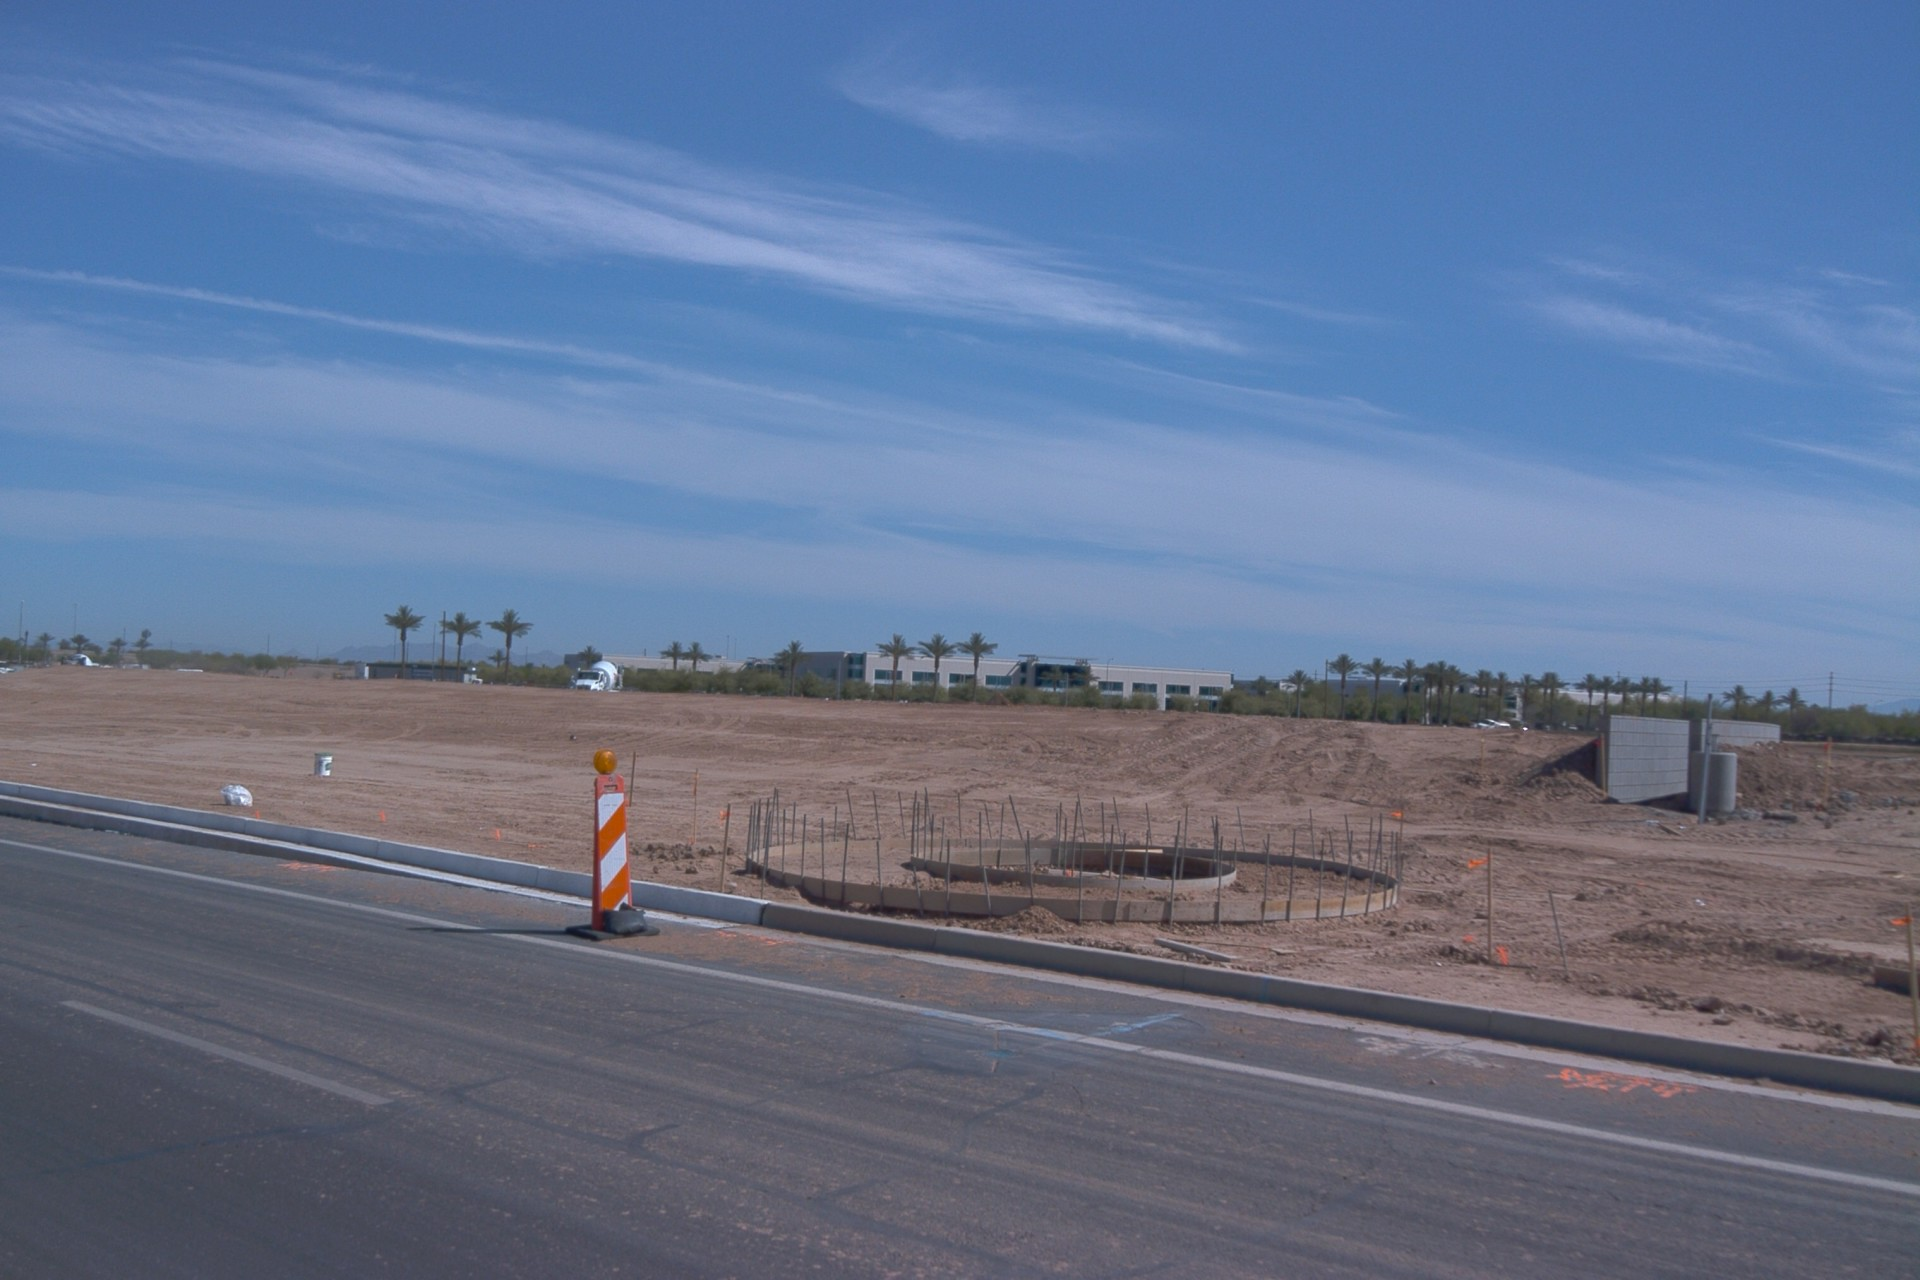TYPE_VEHICLE: (570, 663, 623, 696), (570, 663, 623, 696), (570, 663, 623, 696), (570, 663, 623, 696), (57, 649, 101, 666), (57, 649, 101, 666), (57, 649, 101, 666), (57, 649, 101, 666), (174, 669, 207, 674), (174, 669, 207, 674), (174, 669, 207, 674), (174, 669, 207, 674), (0, 661, 14, 674), (0, 661, 14, 674), (0, 661, 14, 674), (0, 661, 14, 674)
